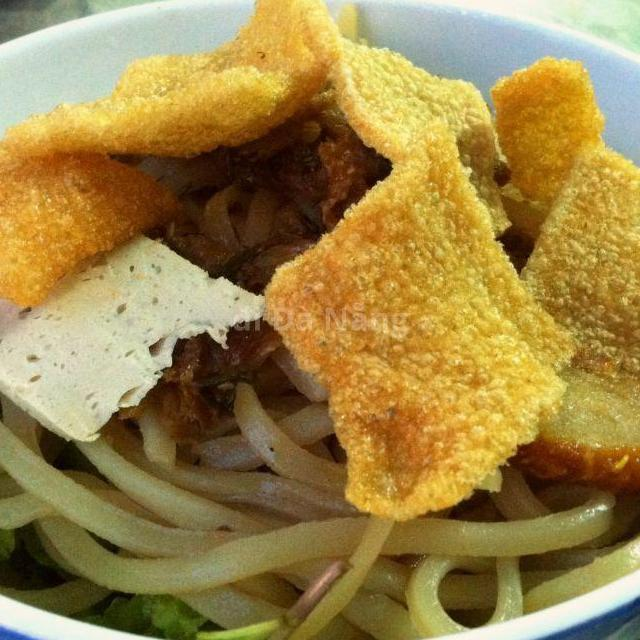banh da: (251, 126, 594, 528), (0, 0, 344, 173), (308, 8, 524, 247), (498, 134, 640, 420), (0, 134, 189, 321), (472, 46, 633, 255)
mi: (0, 330, 400, 640), (324, 456, 640, 640), (133, 110, 337, 305)
mi quang: (0, 0, 640, 640)
thit heo: (484, 346, 640, 519)
